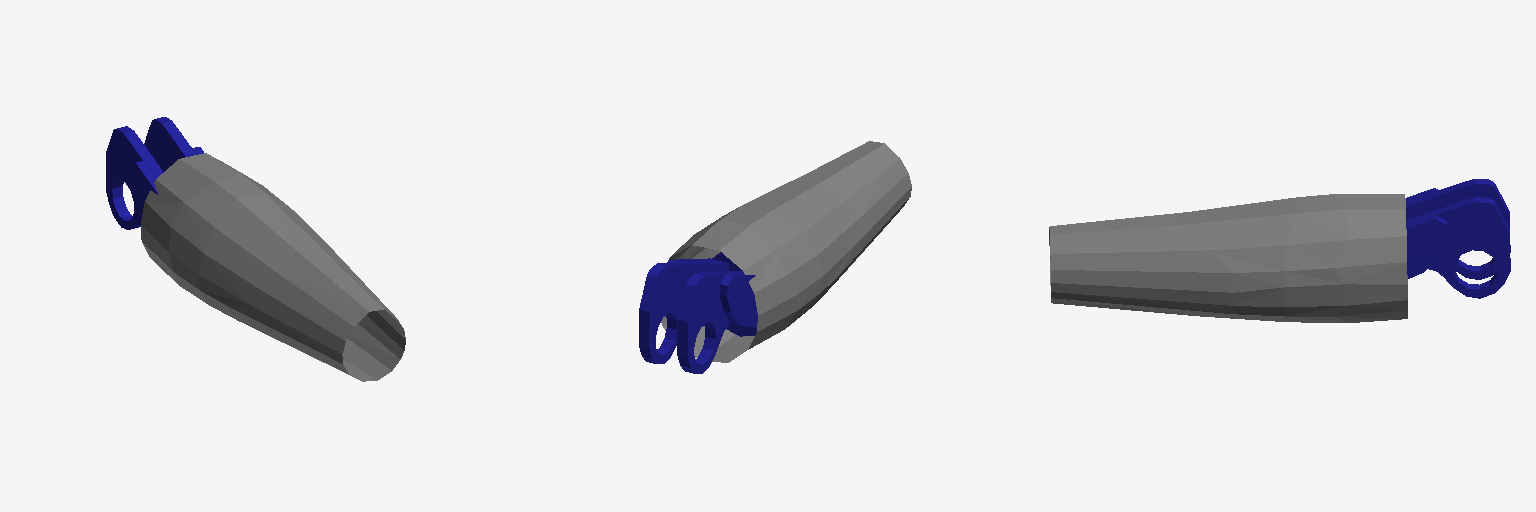
3 renders of one model, left to right at view 1: azimuth 30°, elevation 25°; view 2: azimuth 150°, elevation 25°; view 3: azimuth 270°, elevation 25°, orthographic.
Parts seen in each view (by area): view 1: R_EB.2_ShapeIndexedFaceS.054, R_EB.1_ShapeIndexedFaceS.053; view 2: R_EB.2_ShapeIndexedFaceS.054, R_EB.1_ShapeIndexedFaceS.053; view 3: R_EB.2_ShapeIndexedFaceS.054, R_EB.1_ShapeIndexedFaceS.053.
Boxes of the visible parts, x1=… form: R_EB.2_ShapeIndexedFaceS.054: x1=141, y1=153, x2=405, y2=381; R_EB.1_ShapeIndexedFaceS.053: x1=106, y1=117, x2=203, y2=229; R_EB.2_ShapeIndexedFaceS.054: x1=661, y1=141, x2=911, y2=362; R_EB.1_ShapeIndexedFaceS.053: x1=639, y1=252, x2=757, y2=373; R_EB.2_ShapeIndexedFaceS.054: x1=1049, y1=194, x2=1407, y2=322; R_EB.1_ShapeIndexedFaceS.053: x1=1406, y1=179, x2=1510, y2=298.
Size of the model in its own units: 3.31 by 3.31 by 11.44.